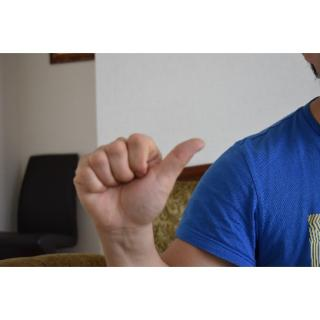DAD: (66, 129, 208, 245)
